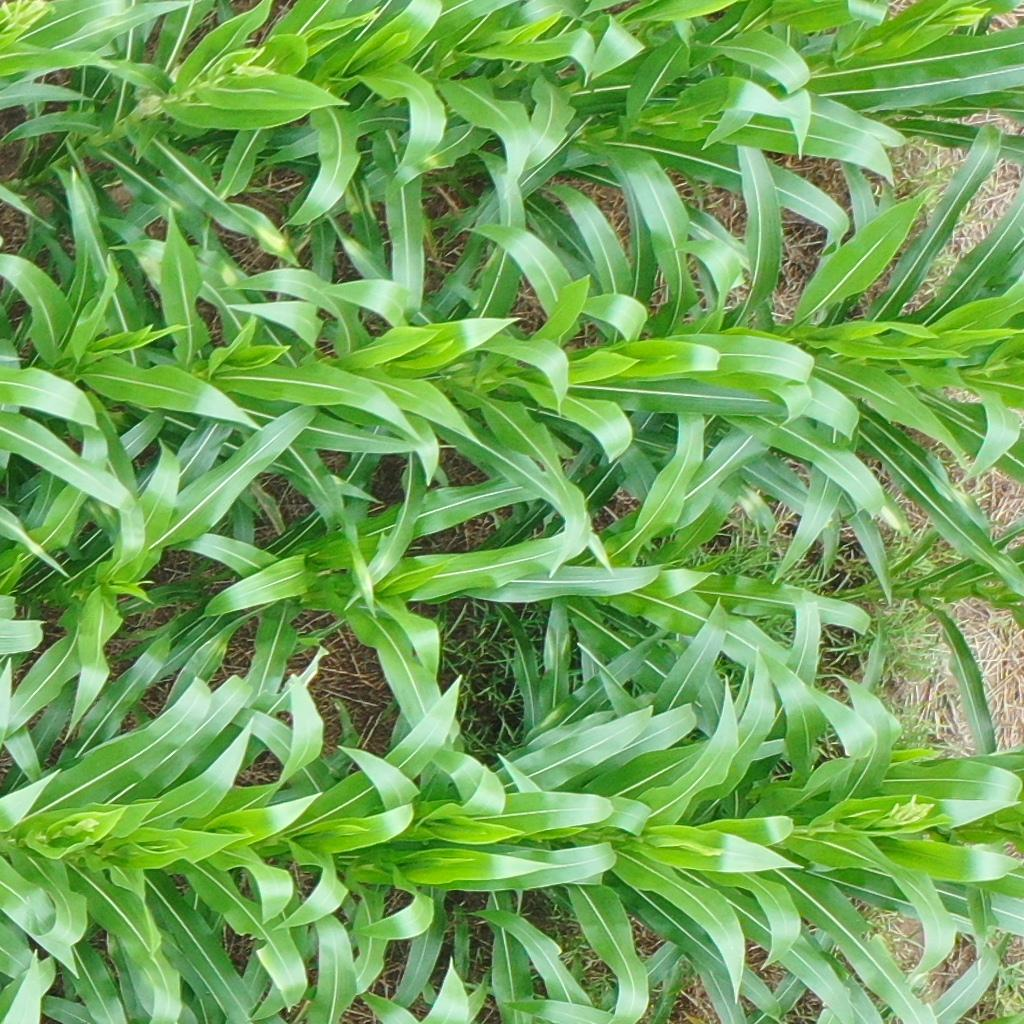Tassel: (228, 42, 280, 82), (888, 793, 936, 827), (1, 1, 52, 31), (72, 813, 103, 839)
